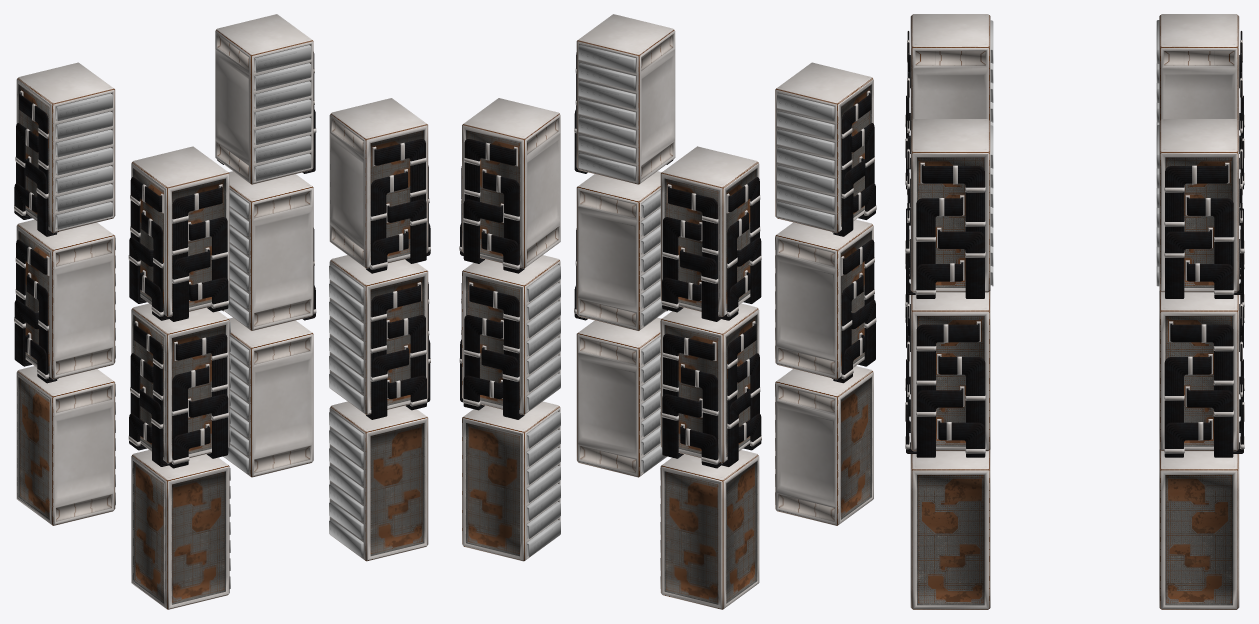
The model's file is SM_ServerTowers.fbx.
3 views of the same model, side by side, from view 1: azimuth 30°, elevation 25°; view 2: azimuth 150°, elevation 25°; view 3: azimuth 270°, elevation 25° (orthographic). The views are drawn at different scales.
Visible parts, largest first — view 1: pillar.009; view 2: pillar.009; view 3: pillar.009.
Boxes of the visible parts, x1,y1,x2,y2 form: pillar.009: (14, 14, 430, 609); pillar.009: (459, 14, 876, 609); pillar.009: (905, 14, 1244, 609).
Bounding box in the file's own units: 390 × 583 × 390.
